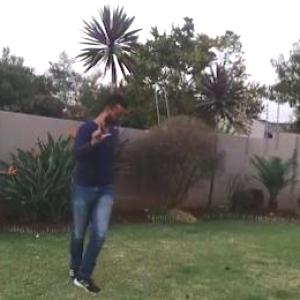land_hand: (89, 114, 112, 148)
